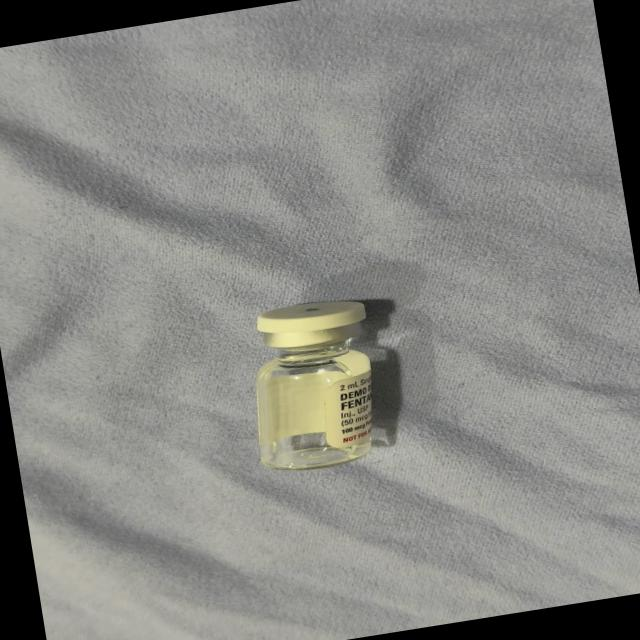fentanl_citrat: (240, 296, 394, 474)
